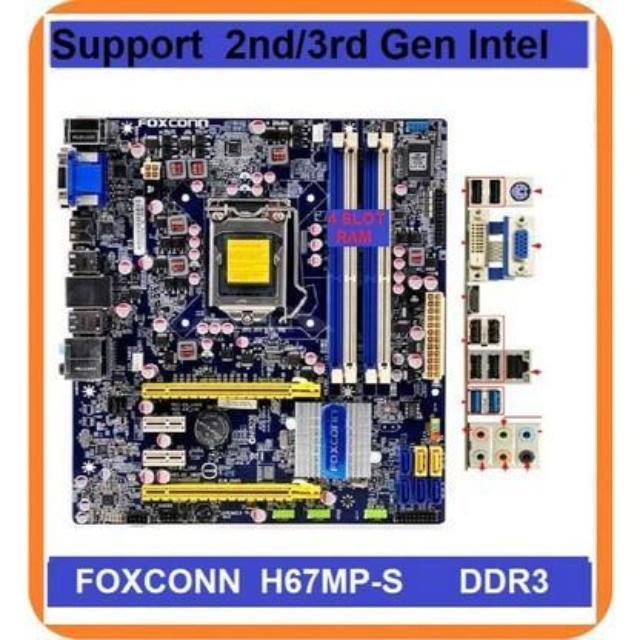Mainboard: (61, 100, 452, 540)
